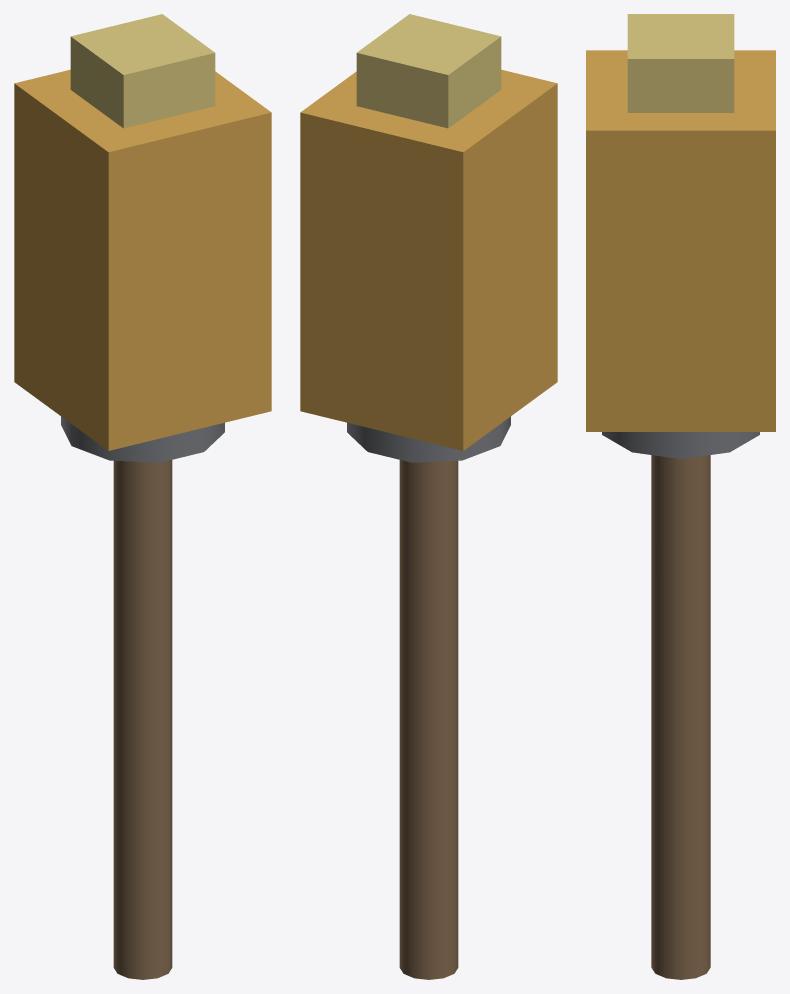
The model's file is equip-torch.glb.
3 views of the same model, side by side, from view 1: azimuth 30°, elevation 25°; view 2: azimuth 150°, elevation 25°; view 3: azimuth 270°, elevation 25° (orthographic).
Visible parts, largest first — view 1: equip_torch; view 2: equip_torch; view 3: equip_torch.
Part boxes in pixels (bbox=[...]): equip_torch: bbox=[14, 14, 271, 979]; equip_torch: bbox=[300, 14, 557, 979]; equip_torch: bbox=[586, 14, 775, 979].
Bounding box in the file's own units: 0.32 × 1.73 × 0.32.
